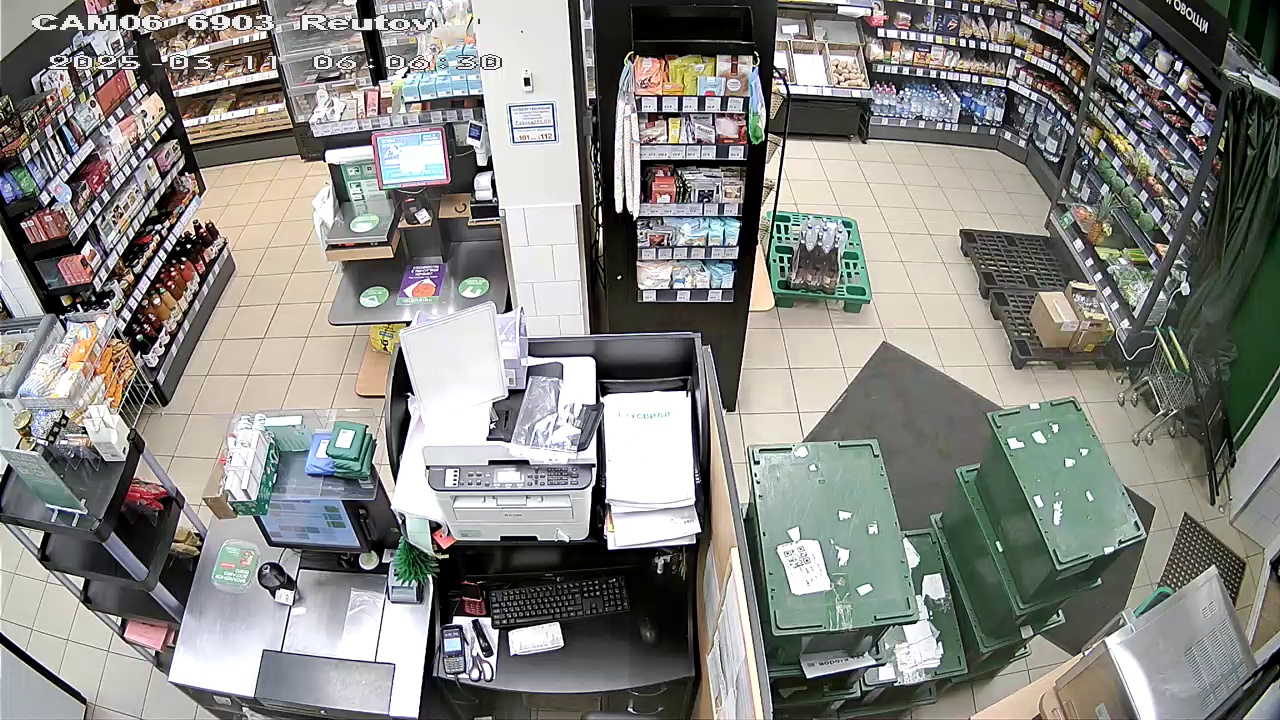pallet: (950, 223, 1121, 364)
